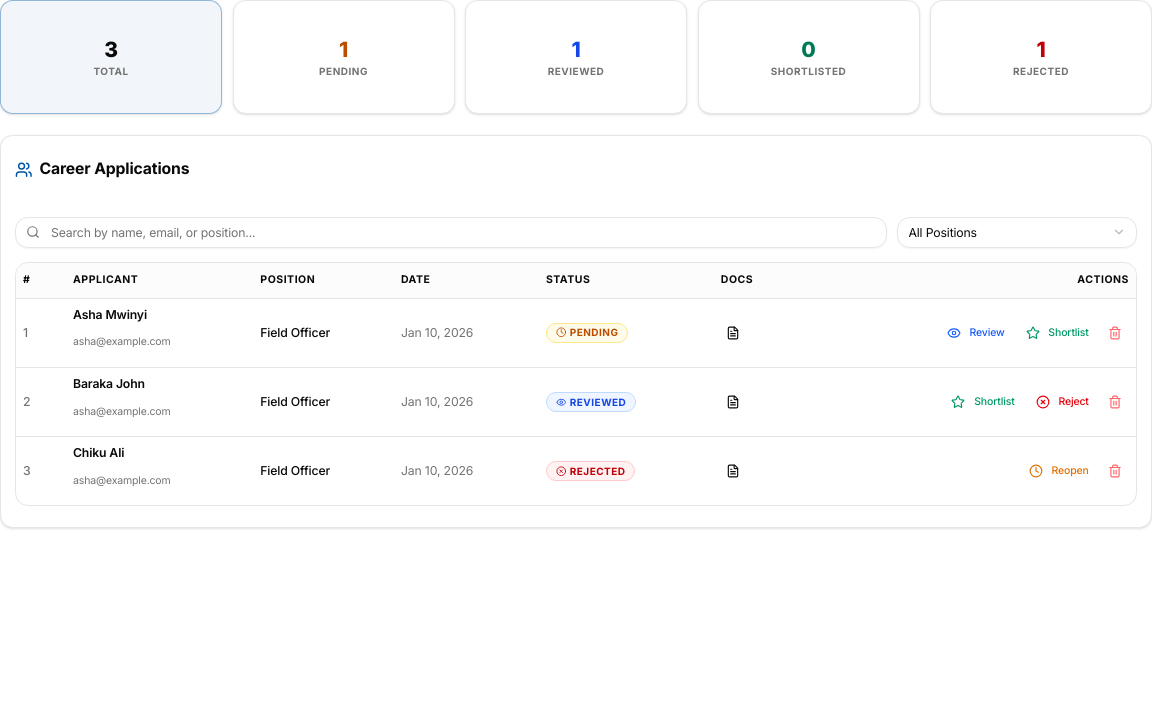
Test: HRApplicationsSubtab › filters by every stat card, including toggling back to all
Click the text "Pending".
click(344, 71)  # box [319, 65, 368, 77]
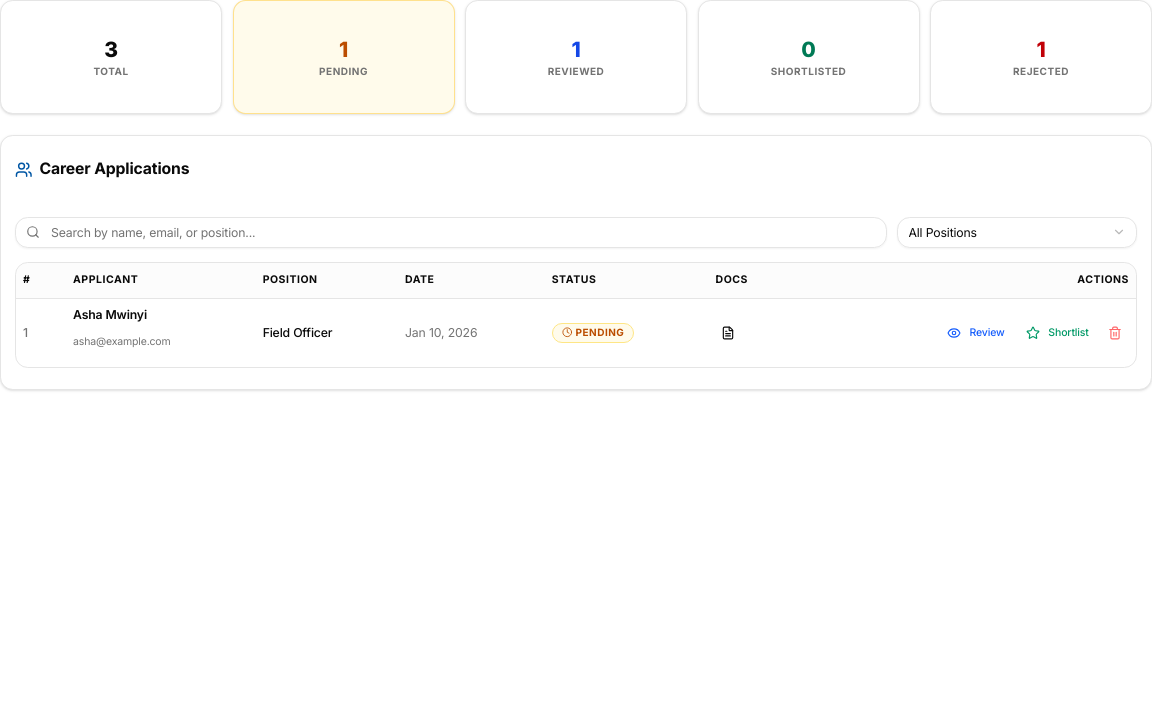
Expected: the text "Asha Mwinyi" is shown, [73, 306, 147, 322]
Expected: the text "Baraka John" is gone
Click the text "Reviewed".
click(576, 71)  # box [548, 65, 604, 77]
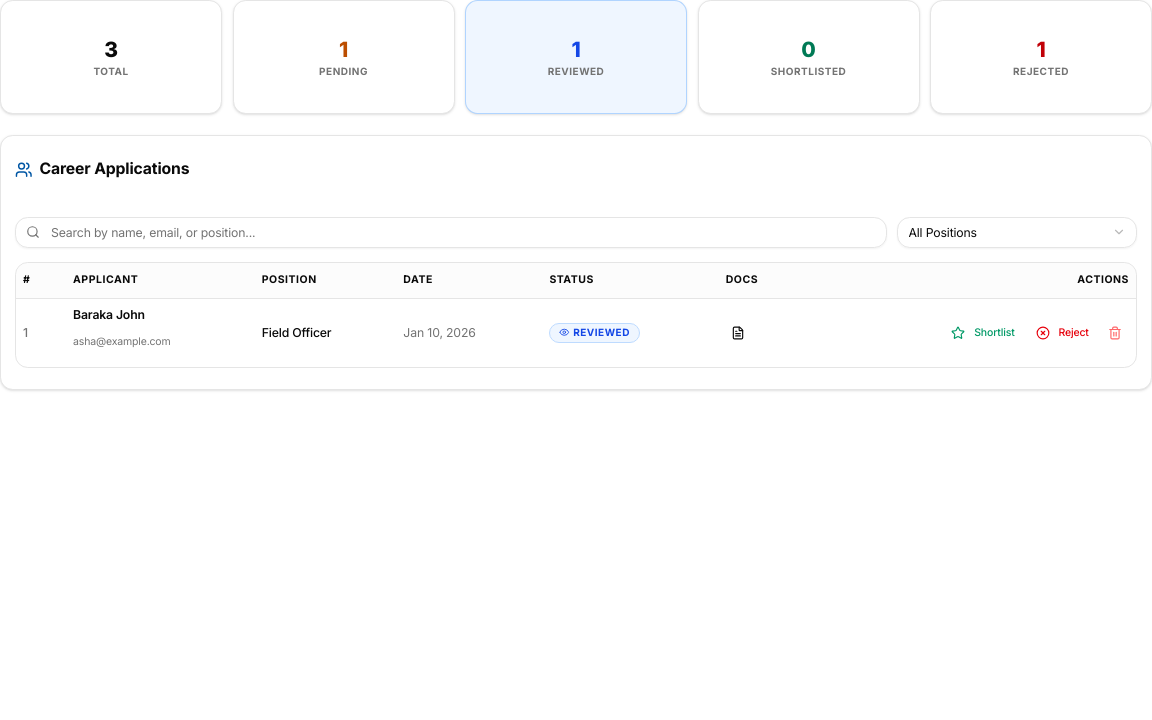
Expected: the text "Baraka John" is shown, [73, 306, 145, 322]
Expected: the text "Asha Mwinyi" is gone
Click the text "Rejected".
click(1041, 71)  # box [1013, 65, 1069, 77]
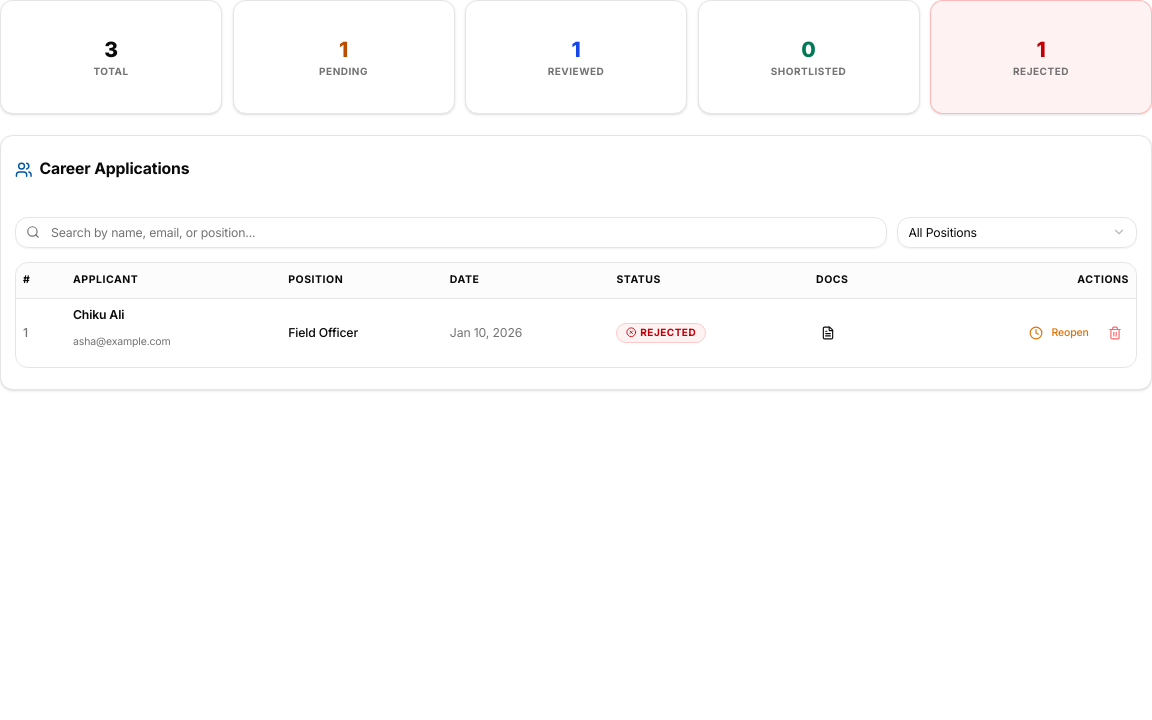
Expected: the text "Chiku Ali" is shown, [73, 306, 124, 322]
Click the text "Total".
click(111, 71)  # box [93, 65, 129, 77]
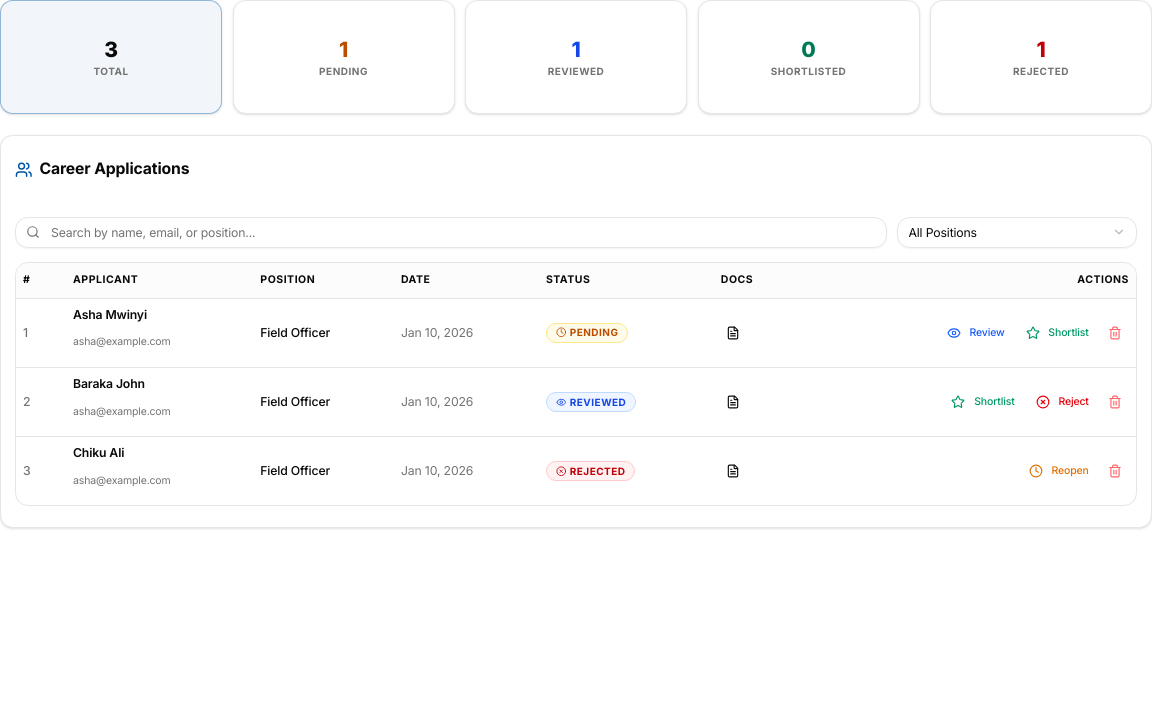
Expected: the text "Chiku Ali" is shown, [73, 445, 124, 460]
Expected: the text "Asha Mwinyi" is shown, [73, 306, 147, 322]
Expected: the text "Baraka John" is shown, [73, 376, 145, 391]
